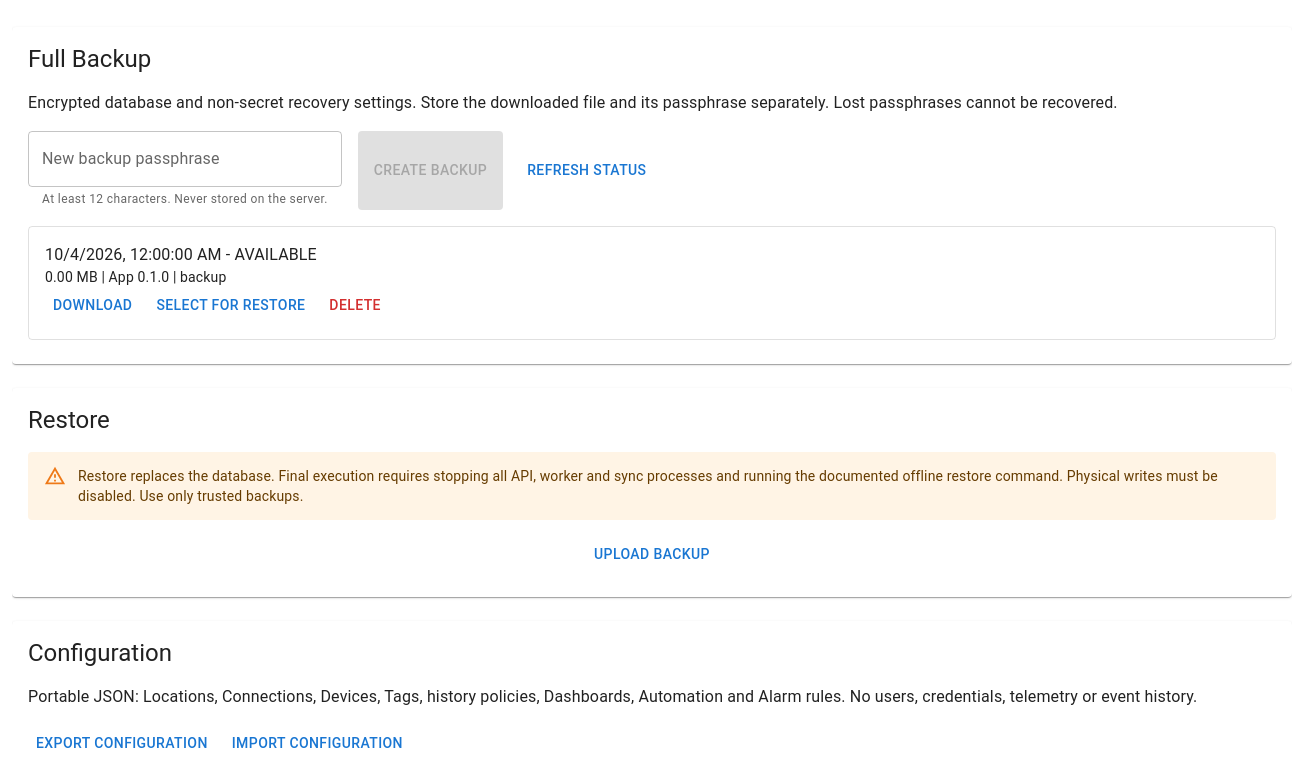
Test case: Backup & Restore › validates and explicitly prepares an offline restore
Click the button "Select for restore" at coordinates (231, 305), box [148, 287, 313, 323]
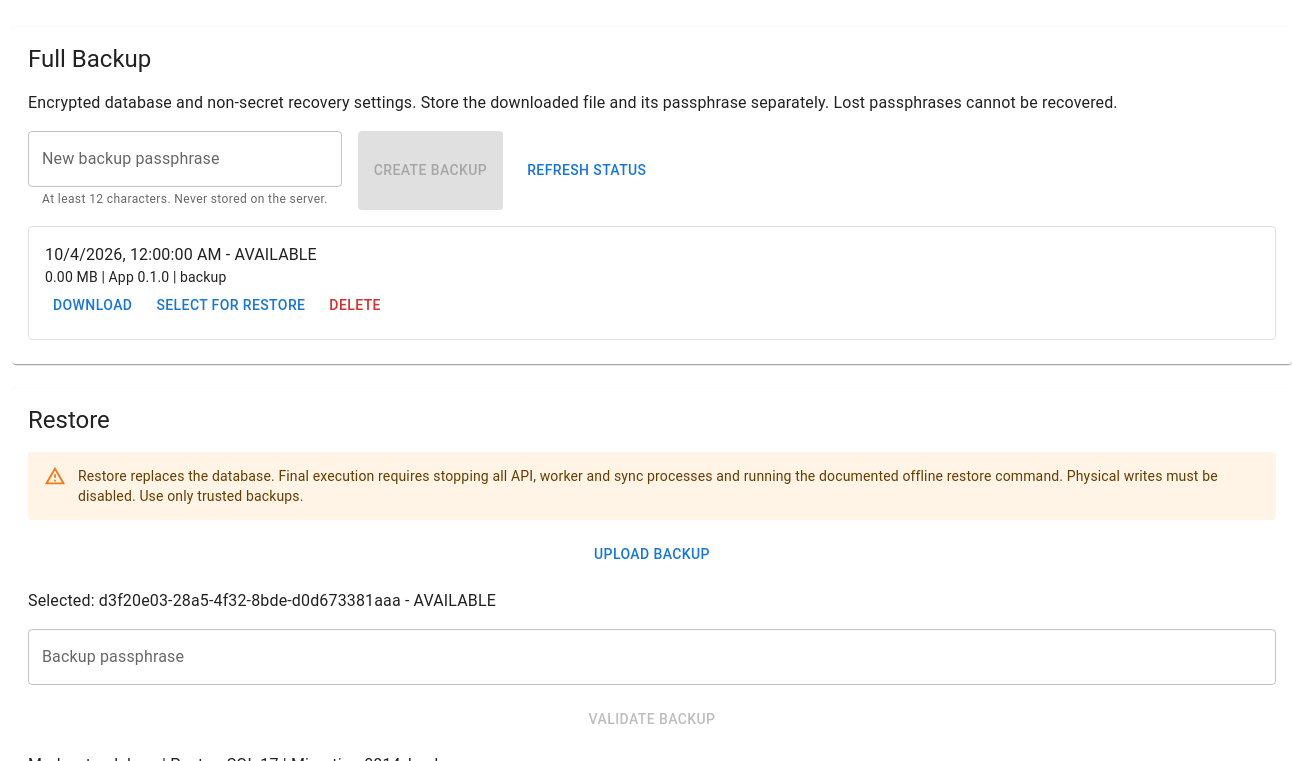
Check: the button "Prepare full restore" is not shown
Type "test-backup-password" into the password field labelled "Backup passphrase" at coordinates (652, 657), box [28, 629, 1276, 685]
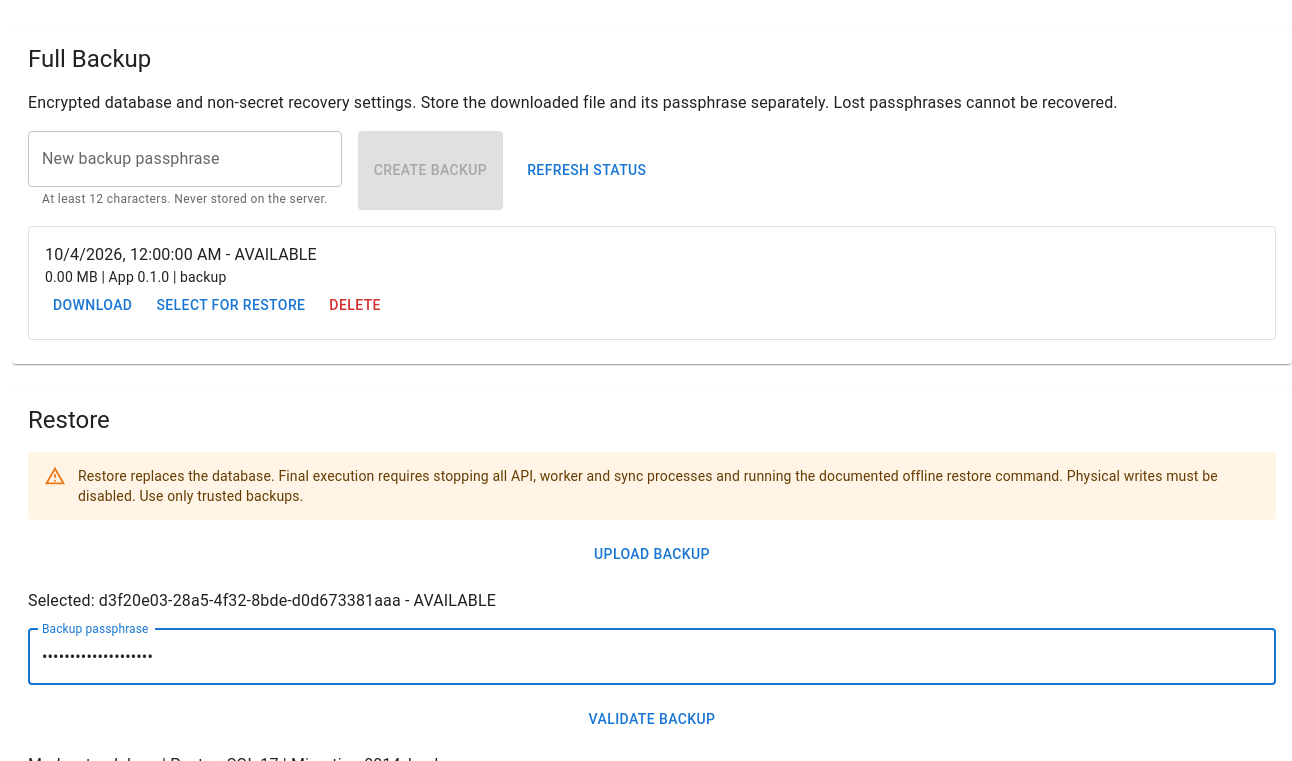
Click the button "Validate backup" at coordinates (652, 719), box [28, 701, 1276, 738]
(page scrolled)
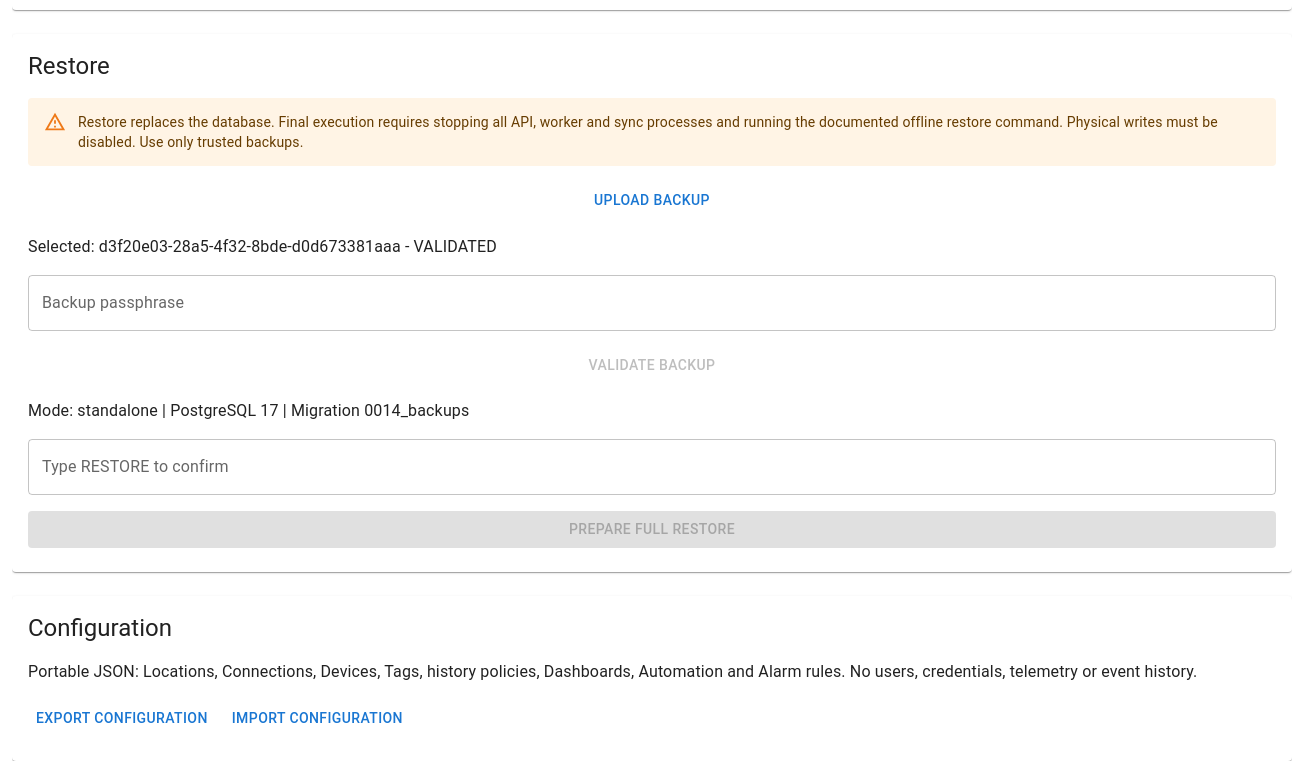
Check: the button "Prepare full restore" is disabled, box [28, 512, 1276, 548]
Type "RESTORE" into the field labelled "Type RESTORE to confirm" at coordinates (652, 468), box [28, 440, 1276, 496]
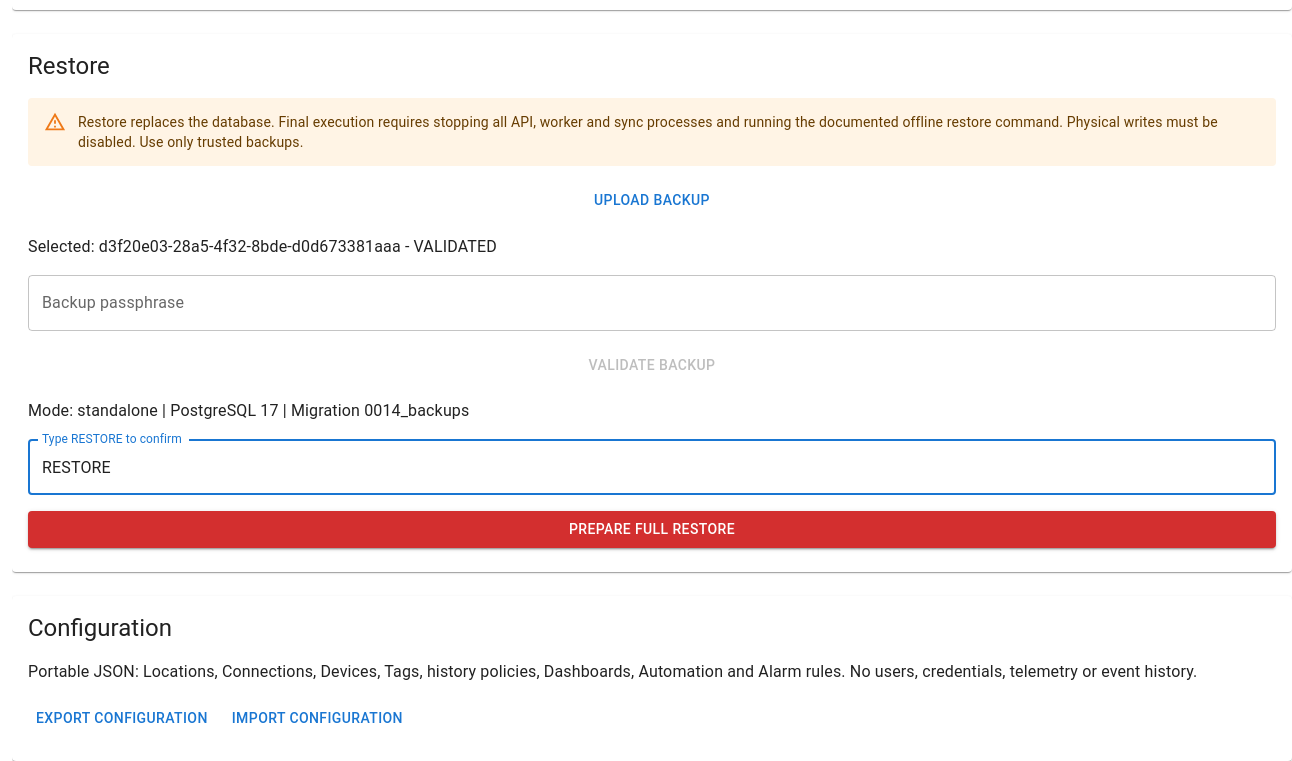
Click the button "Prepare full restore" at coordinates (652, 530), box [28, 512, 1276, 548]
(page scrolled)
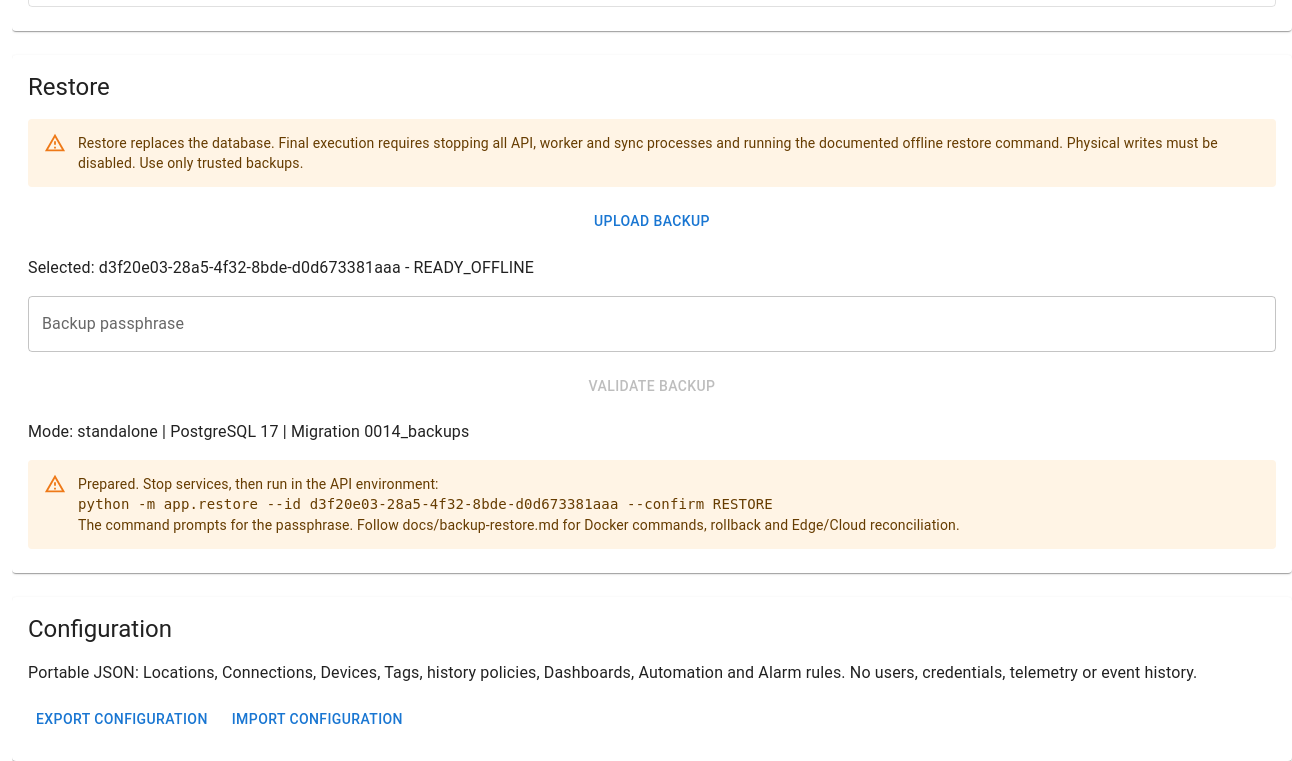
Check: the text "python -m app.restore" is shown, box [78, 496, 310, 512]
